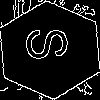S: (25, 25, 79, 62)
